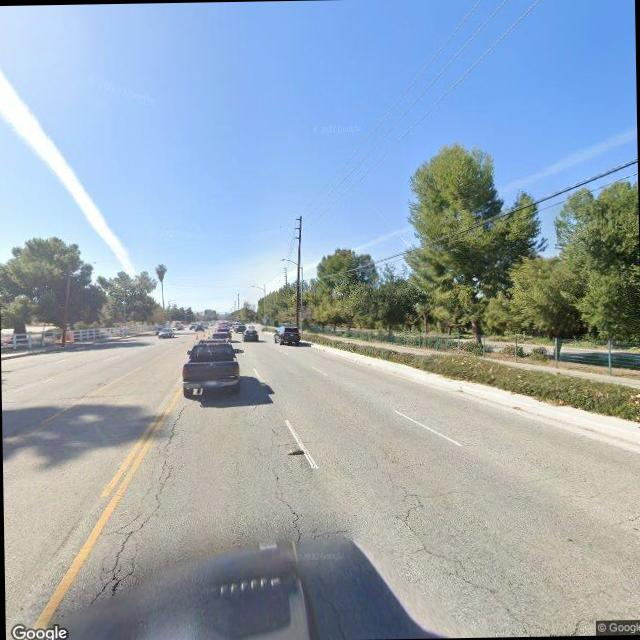crack: (85, 403, 192, 601)
pothole: (378, 465, 558, 638), (246, 404, 314, 543)
